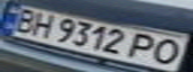1: (87, 22, 109, 52)
2: (103, 26, 130, 56)
3: (69, 19, 93, 48)
9: (48, 16, 78, 44)
B: (3, 6, 45, 34)
H: (24, 10, 60, 39)
O: (145, 37, 190, 66)
P: (127, 32, 163, 61)
